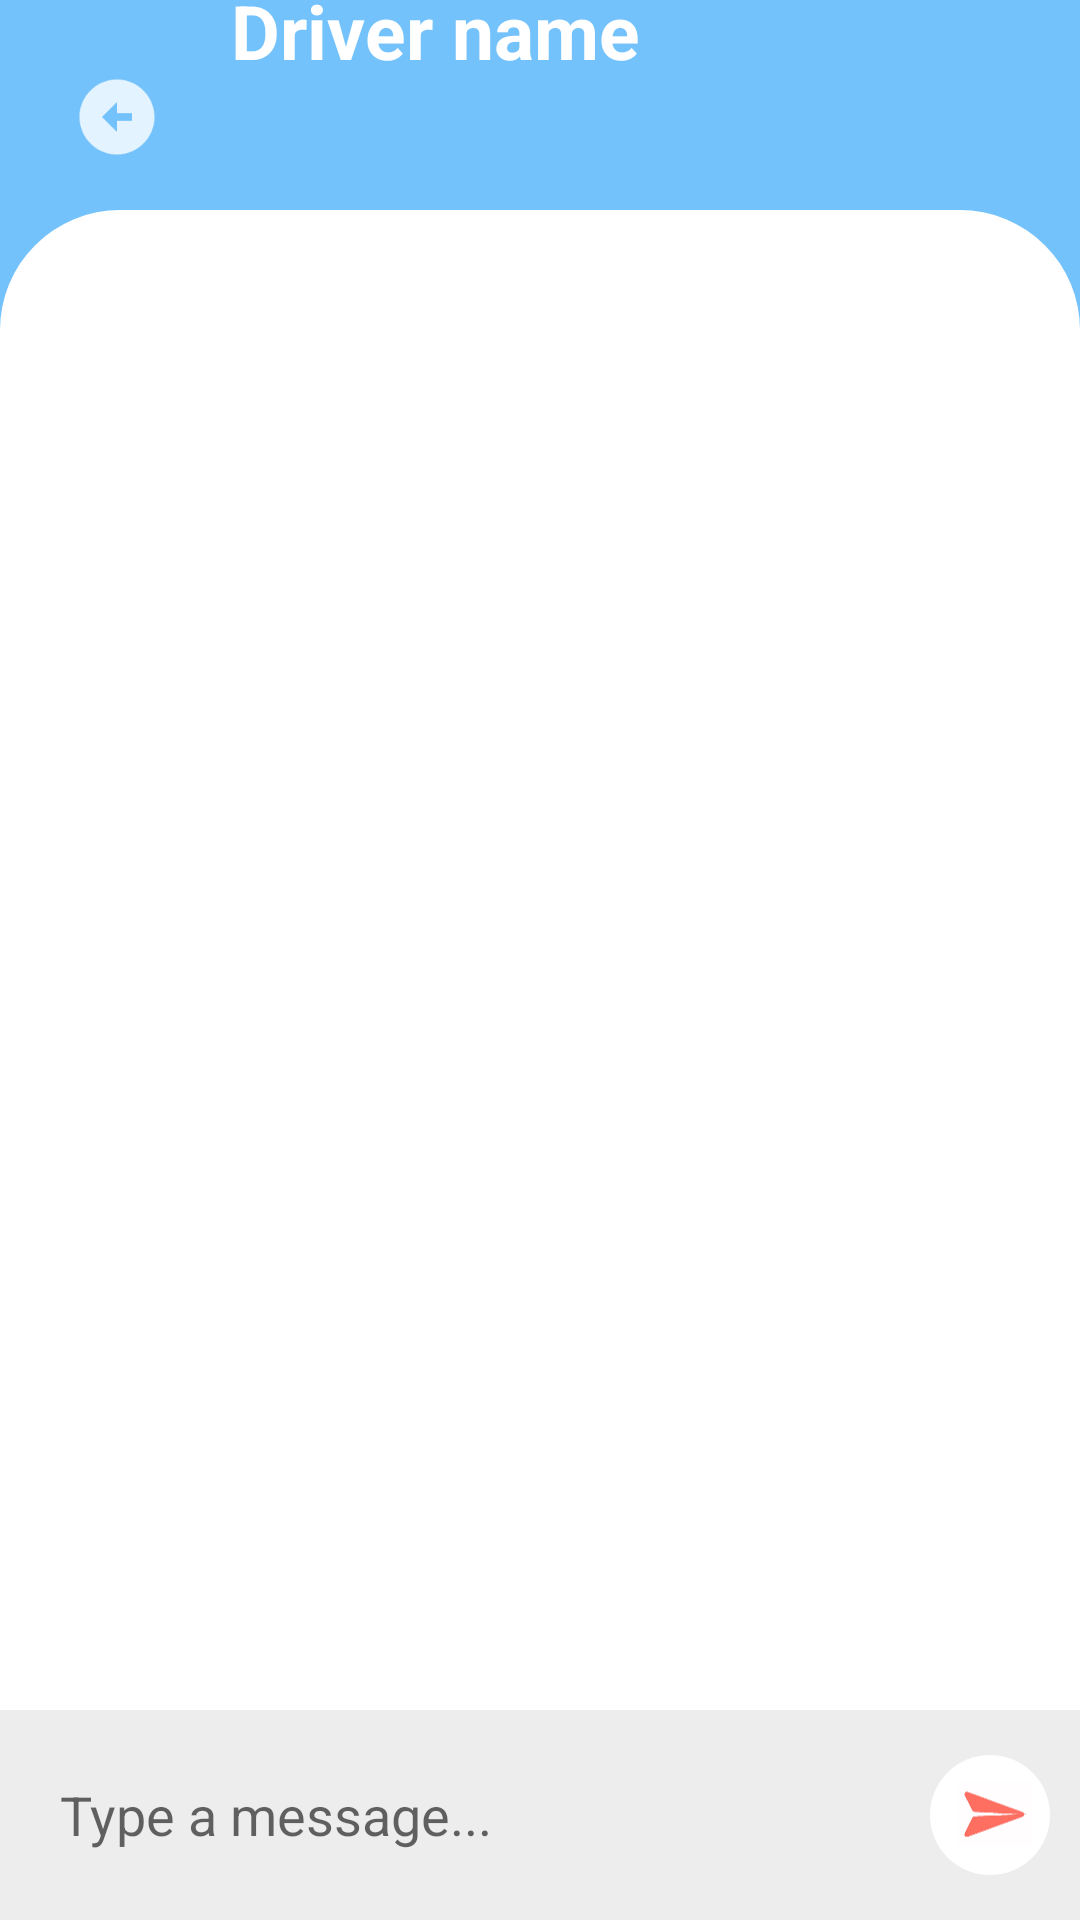

Icons on this 1080x1920 Android screen, each with the point to tap as [x,y]:
back: [117,117]
send message: [995,1814]
